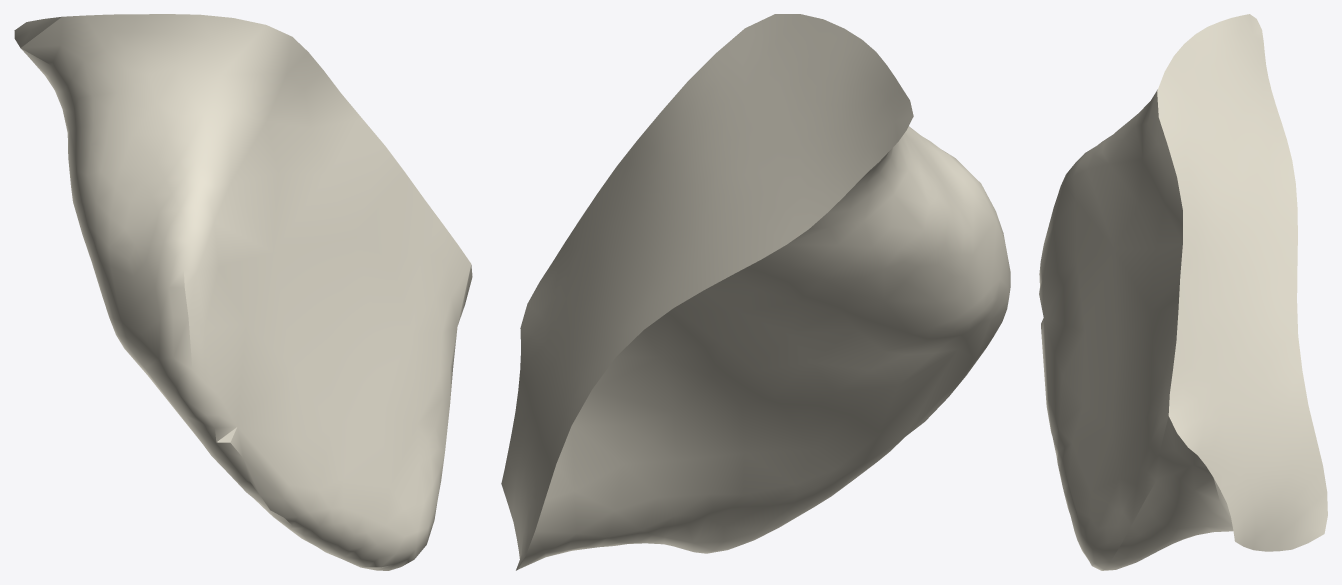
File: fma12076_mm2401m.glb
3 renders of one model, left to right at view 1: azimuth 30°, elevation 25°; view 2: azimuth 150°, elevation 25°; view 3: azimuth 270°, elevation 25°, orthographic. The views are drawn at different scales.
Parts seen in each view (by area): view 1: FMA12076_MM2401M; view 2: FMA12076_MM2401M; view 3: FMA12076_MM2401M.
Boxes of the visible parts, x1,y1,x2,y2 form: FMA12076_MM2401M: (14, 14, 472, 570); FMA12076_MM2401M: (501, 14, 1010, 570); FMA12076_MM2401M: (1039, 14, 1327, 570).
Size of the model in its own units: 0.011 by 0.0144 by 0.00829.
